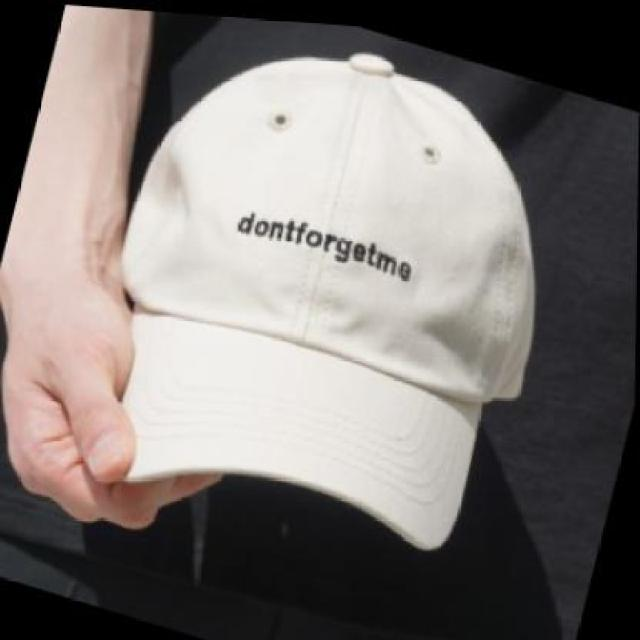hat: (67, 4, 598, 571)
